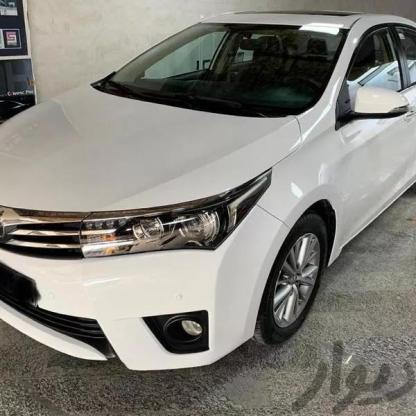Car: (0, 14, 416, 384)
